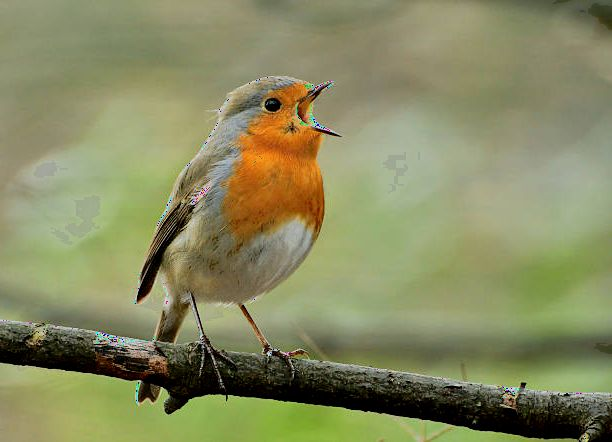Bird: (123, 70, 341, 408)
